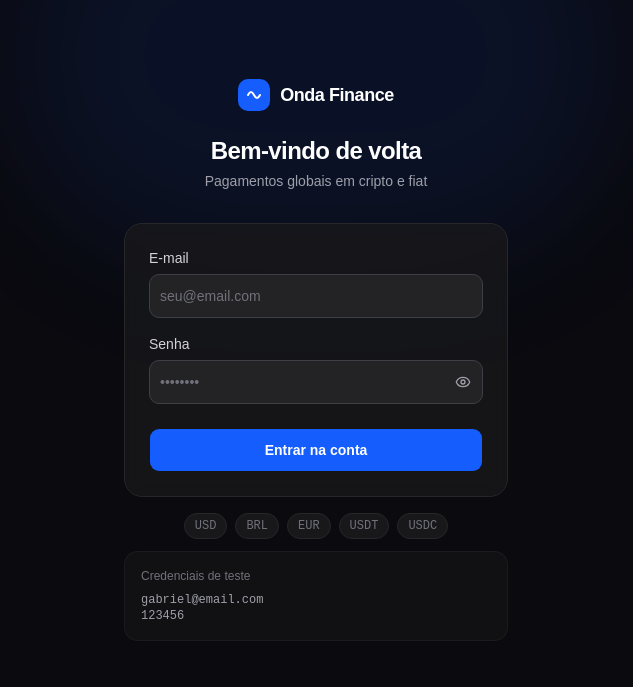
it: Login › exibe erro do servidor com credenciais incorretas
The width and height of the screenshot is (633, 687).
Type "errado@email.com" into the field labelled "E-mail" at (316,296), box [149,274,483,318]
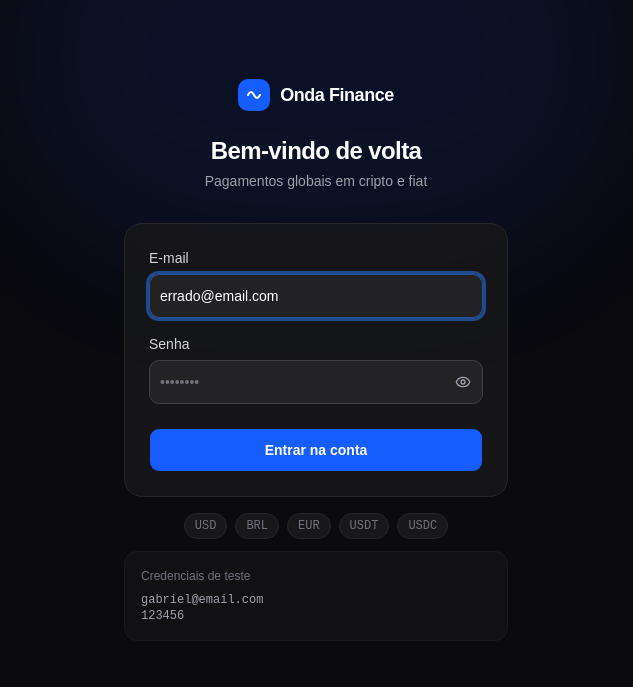
Type "senhaerrada" into the password field with placeholder "••••••••" at (316,382), box [149,360,483,404]
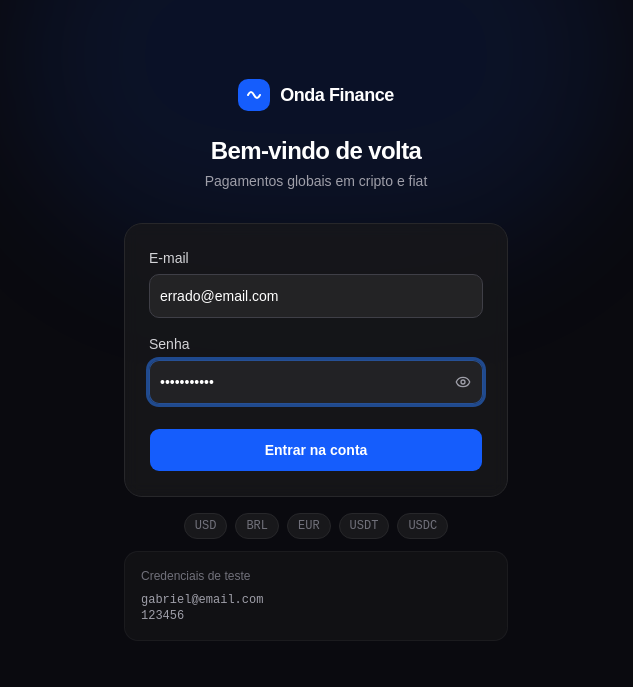
Click the button "Entrar na conta" at (316,450), box [149,428,483,472]
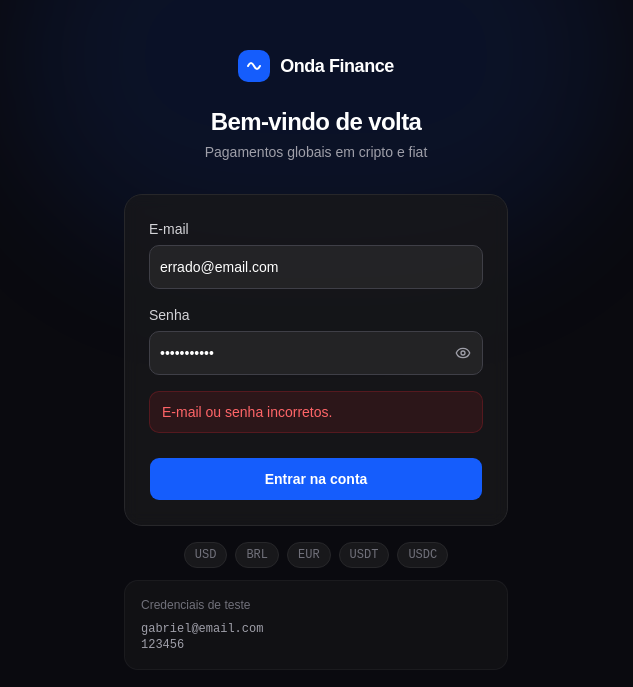
Check: the text "E-mail ou senha incorretos." is shown, box [162,404,332,420]
